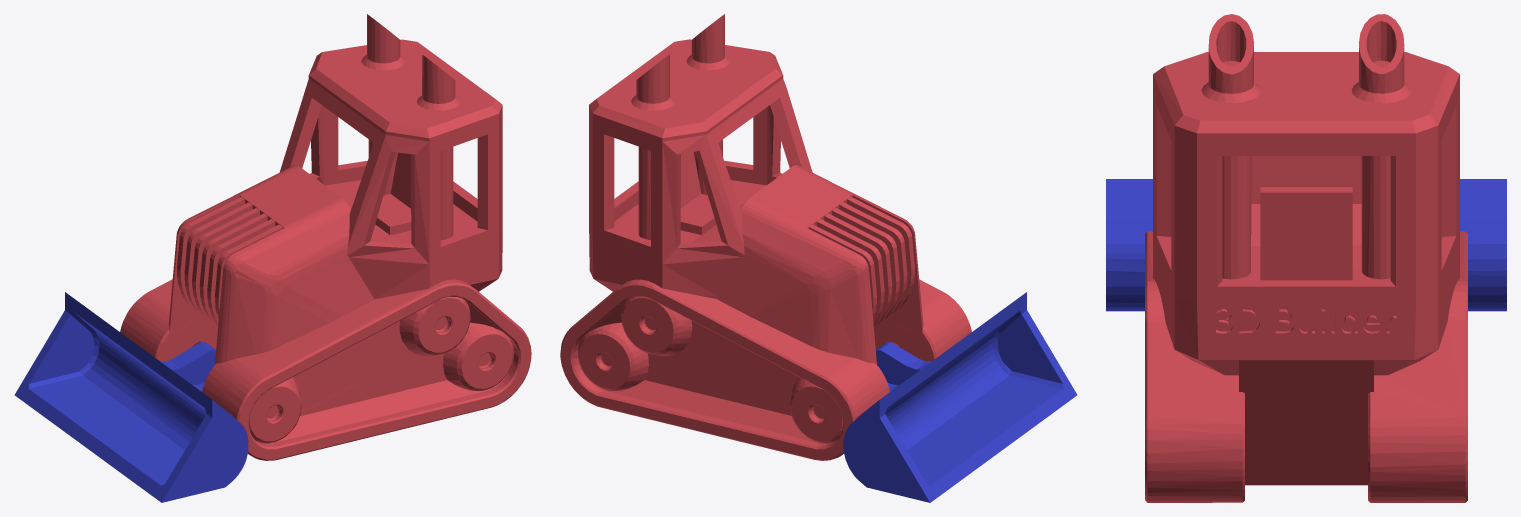
Rendered from 推土机.glb.
3 views of the same model, side by side, from view 1: azimuth 30°, elevation 25°; view 2: azimuth 150°, elevation 25°; view 3: azimuth 270°, elevation 25° (orthographic). The views are drawn at different scales.
Size of the model in its own units: 0.512 by 0.4296 by 0.3393.
Materials: 1 (1 with a texture image).
